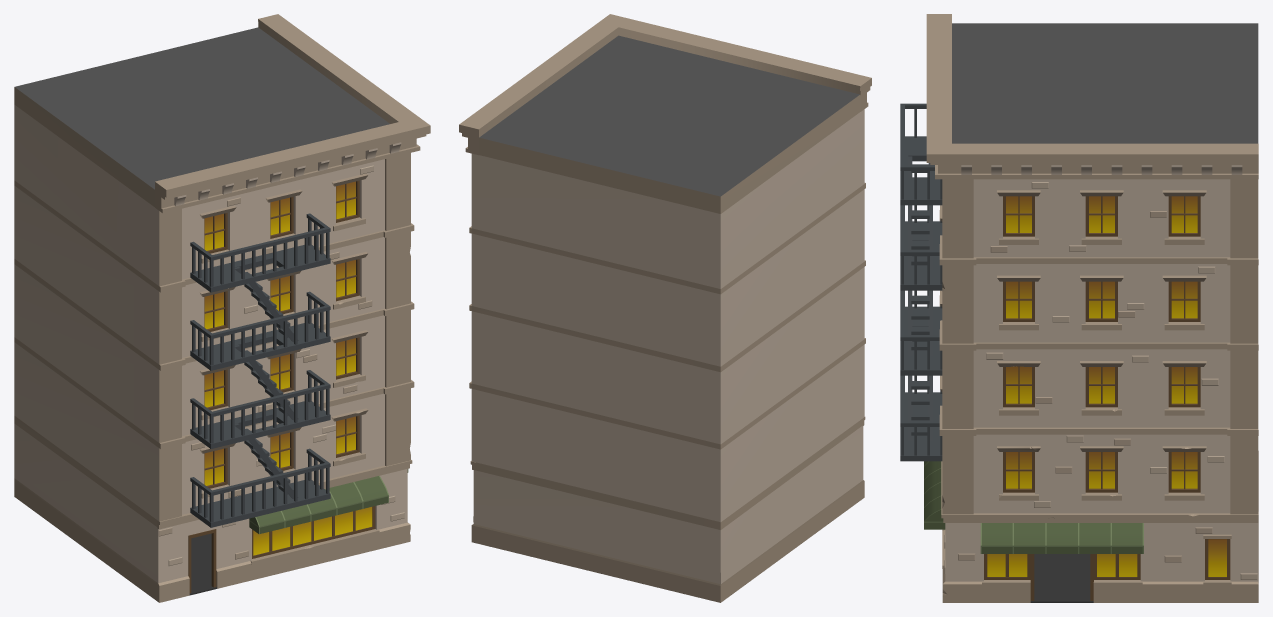
The model's file is SM_Buildings_House_14_V2.fbx.
3 renders of one model, left to right at view 1: azimuth 30°, elevation 25°; view 2: azimuth 150°, elevation 25°; view 3: azimuth 270°, elevation 25°, orthographic. The views are drawn at different scales.
Visible parts, largest first — view 1: SM_Buildings_House_14_V2; view 2: SM_Buildings_House_14_V2; view 3: SM_Buildings_House_14_V2.
Boxes of the visible parts, x1=… form: SM_Buildings_House_14_V2: x1=14, y1=14, x2=430, y2=602; SM_Buildings_House_14_V2: x1=459, y1=14, x2=871, y2=602; SM_Buildings_House_14_V2: x1=900, y1=14, x2=1258, y2=602.
Bounding box in the file's own units: 10.69 × 16.02 × 11.43.
